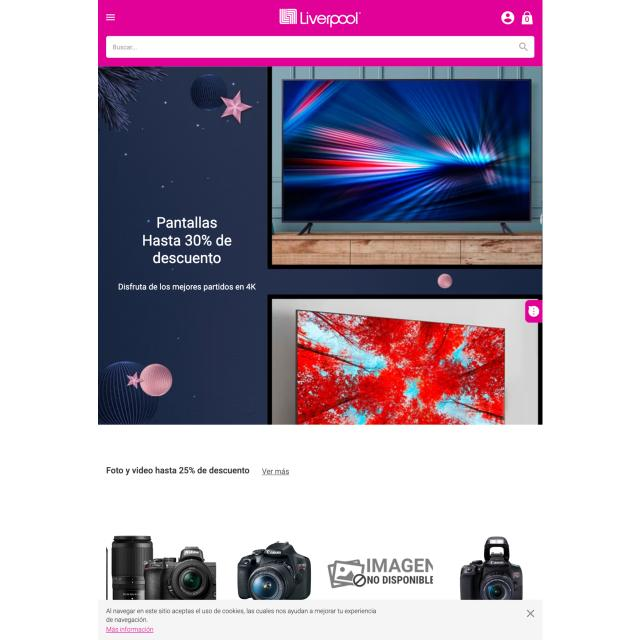input: (106, 35, 535, 58)
logo: (276, 5, 364, 31)
navigation: (105, 11, 116, 24)
